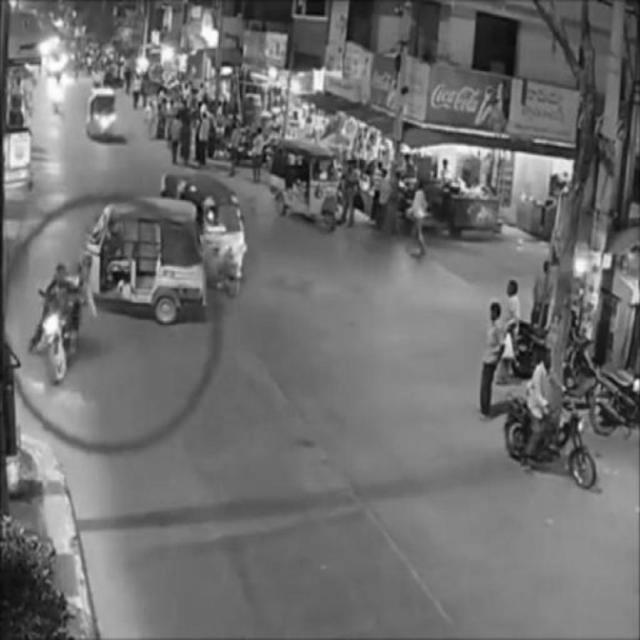person: (479, 298, 505, 420), (497, 279, 519, 389), (410, 183, 430, 265)
vehicle: (84, 201, 208, 321), (503, 347, 596, 493), (164, 174, 244, 298), (28, 265, 80, 383), (273, 143, 339, 234)
